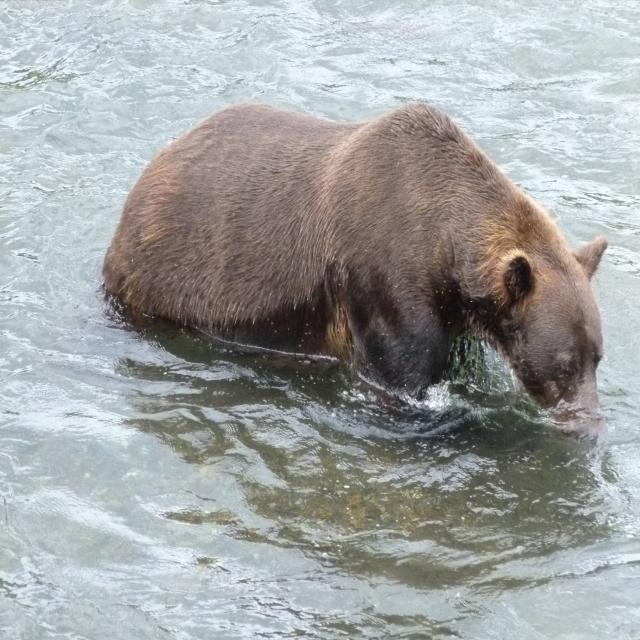bear face: (104, 109, 610, 433)
